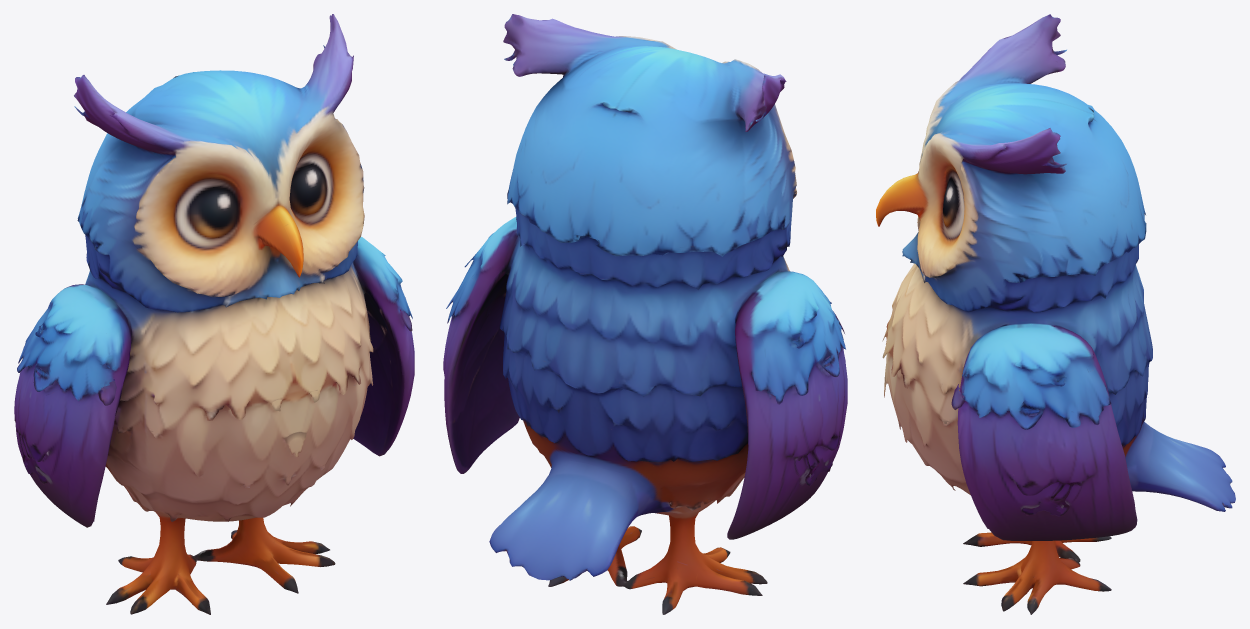
Rendered from lod_basic_shaded.fbx.
3 views of the same model, side by side, from view 1: azimuth 30°, elevation 25°; view 2: azimuth 150°, elevation 25°; view 3: azimuth 270°, elevation 25° (orthographic). The views are drawn at different scales.
Visible parts, largest first — view 1: model_LOD0; view 2: model_LOD0; view 3: model_LOD0.
Part boxes in pixels (box(x1,y1,x2,y2)): model_LOD0: box(14, 14, 414, 614); model_LOD0: box(443, 14, 847, 614); model_LOD0: box(876, 14, 1235, 614).
Size of what is drawn, in the model's own units: 135 by 184 by 122.
